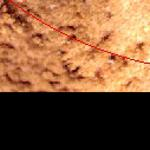alive: (2, 1, 148, 91)
